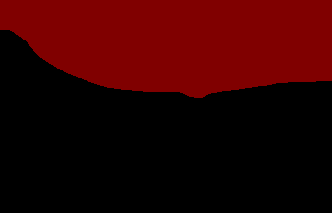Sky: (1, 1, 331, 212)
